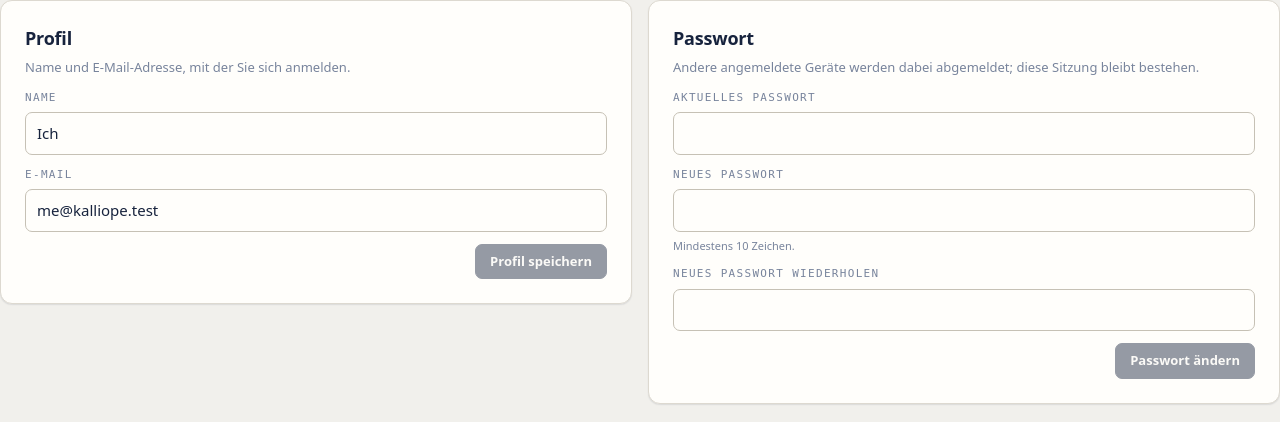
Test: profile › saves name and email and confirms it
The image size is (1280, 422).
Replace the text in the field labelled "Name" with "Neu" at (316, 133), box [25,112,607,154]
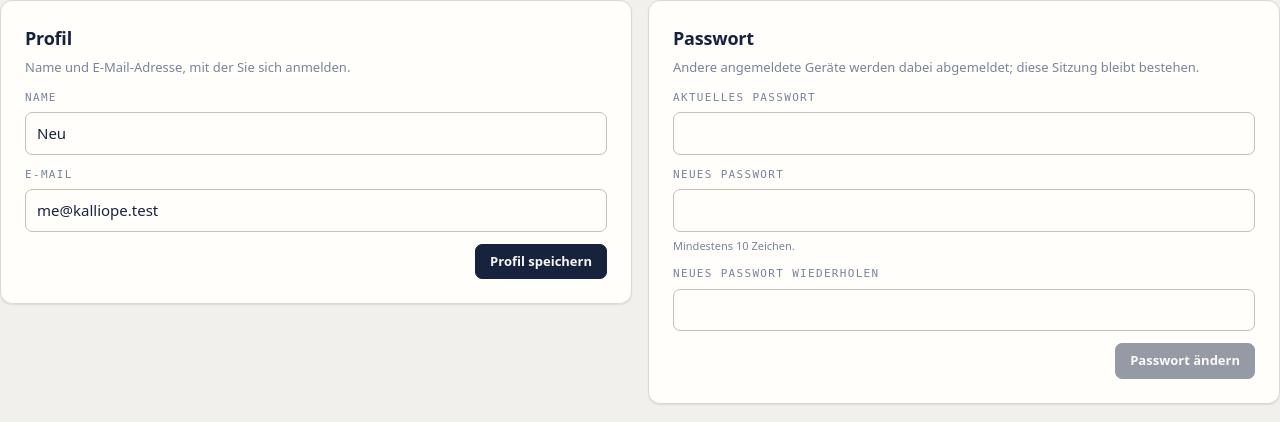
Replace the text in the field labelled "E-Mail" with "neu@kalliope.test" at (316, 210), box [25,189,607,232]
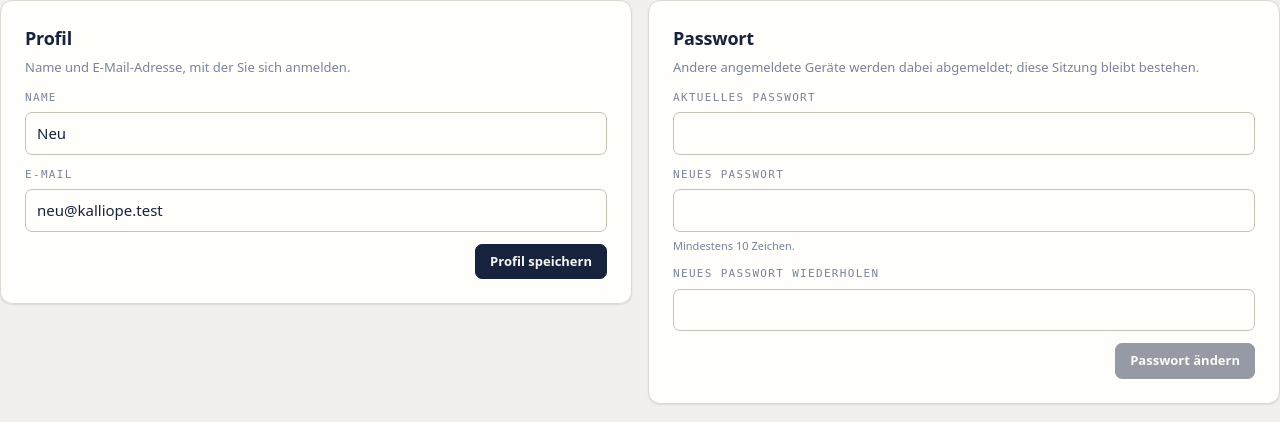
Submit the form that starts with "Profil", box [0,0,632,304]
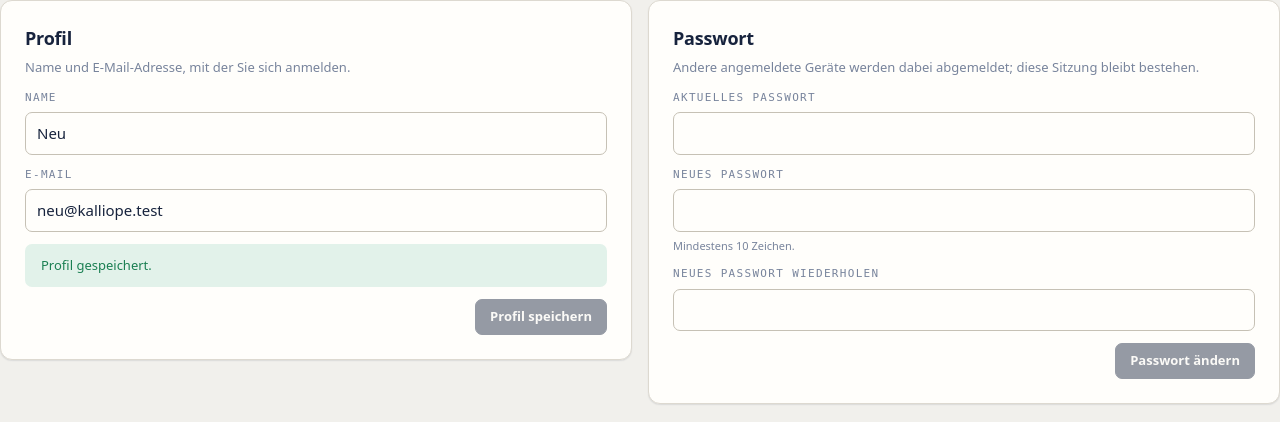
Now the message "Profil gespeichert." is shown, box [25,244,607,287]
